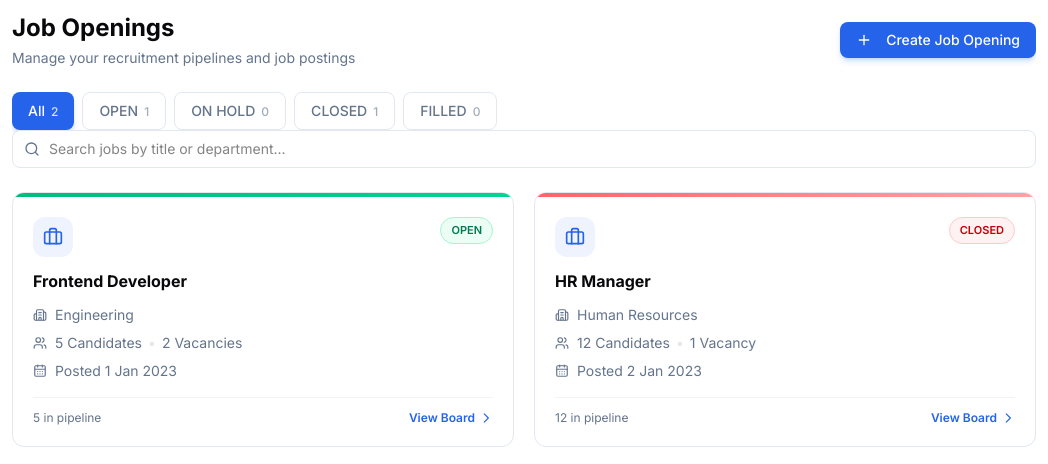
Job Openings Page › should display empty state when no jobs match search
Expected: the heading "Frontend Developer" is shown, [33, 271, 187, 291]
Type "XYZ" into the field with placeholder "Search jobs by title or department..." at [524, 149], box [12, 130, 1036, 168]
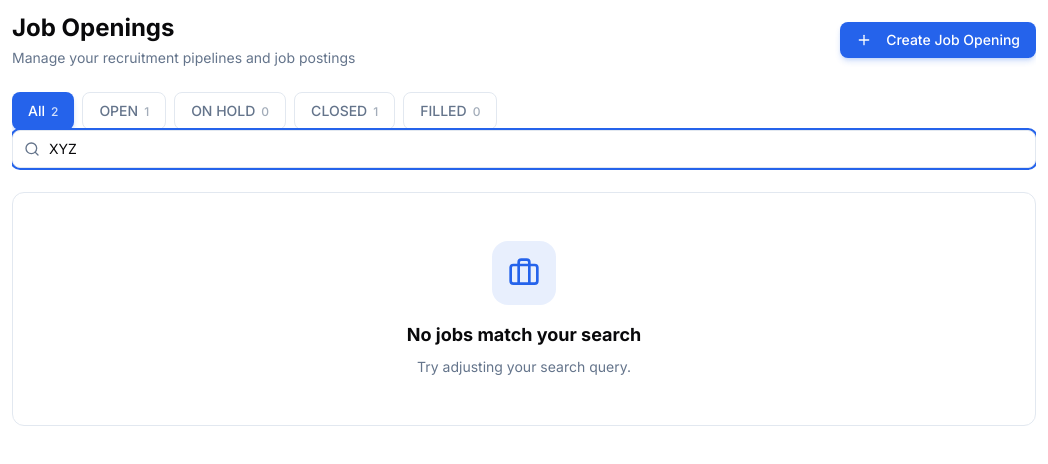
Expected: the heading "No jobs match your search" is shown, [407, 324, 641, 345]
